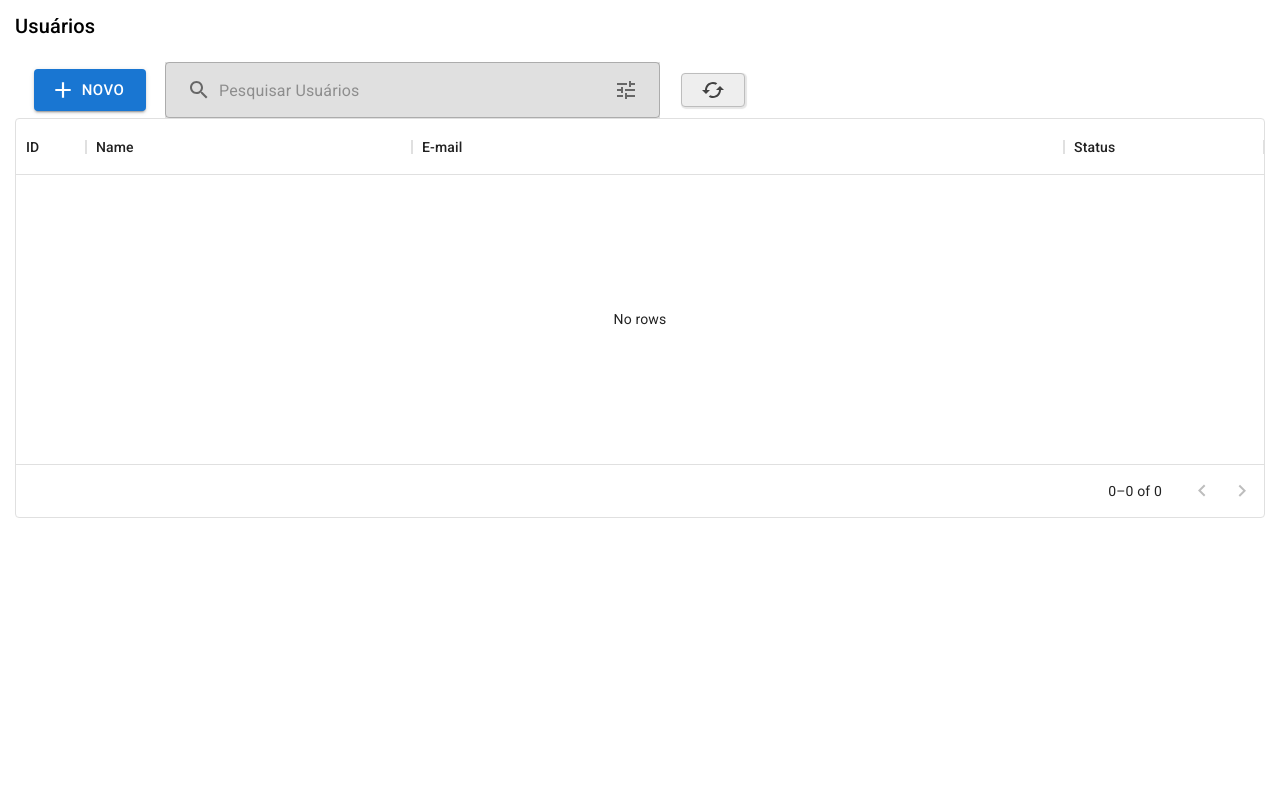
Test: user table header › create button should only be enabled if fields are valid
Click the button with test id "new-user-button" at (90, 90), box top-left (34, 69), bottom-right (146, 111)
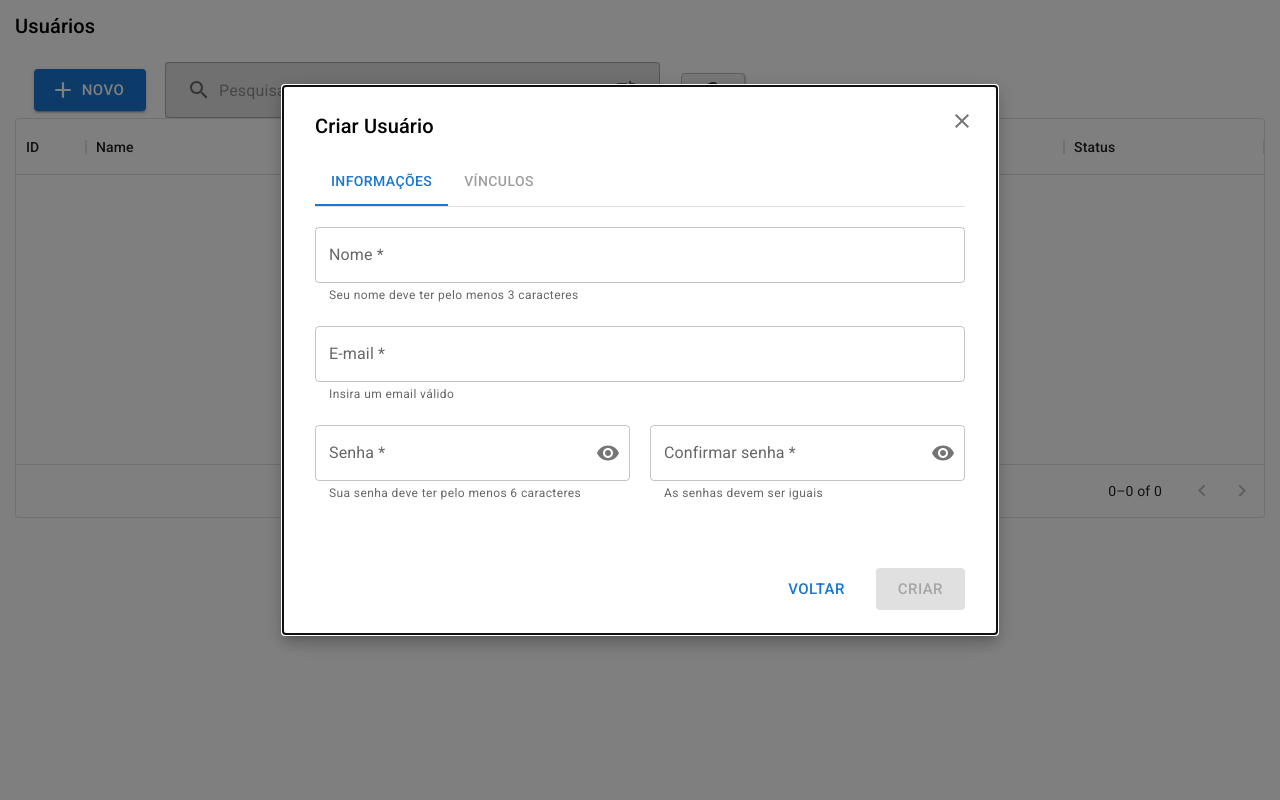
Now the button with test id "button-create" is disabled, box top-left (876, 568), bottom-right (965, 610)
Type "John Doe" into the field labelled "Nome *" at (640, 255), box top-left (315, 227), bottom-right (965, 283)
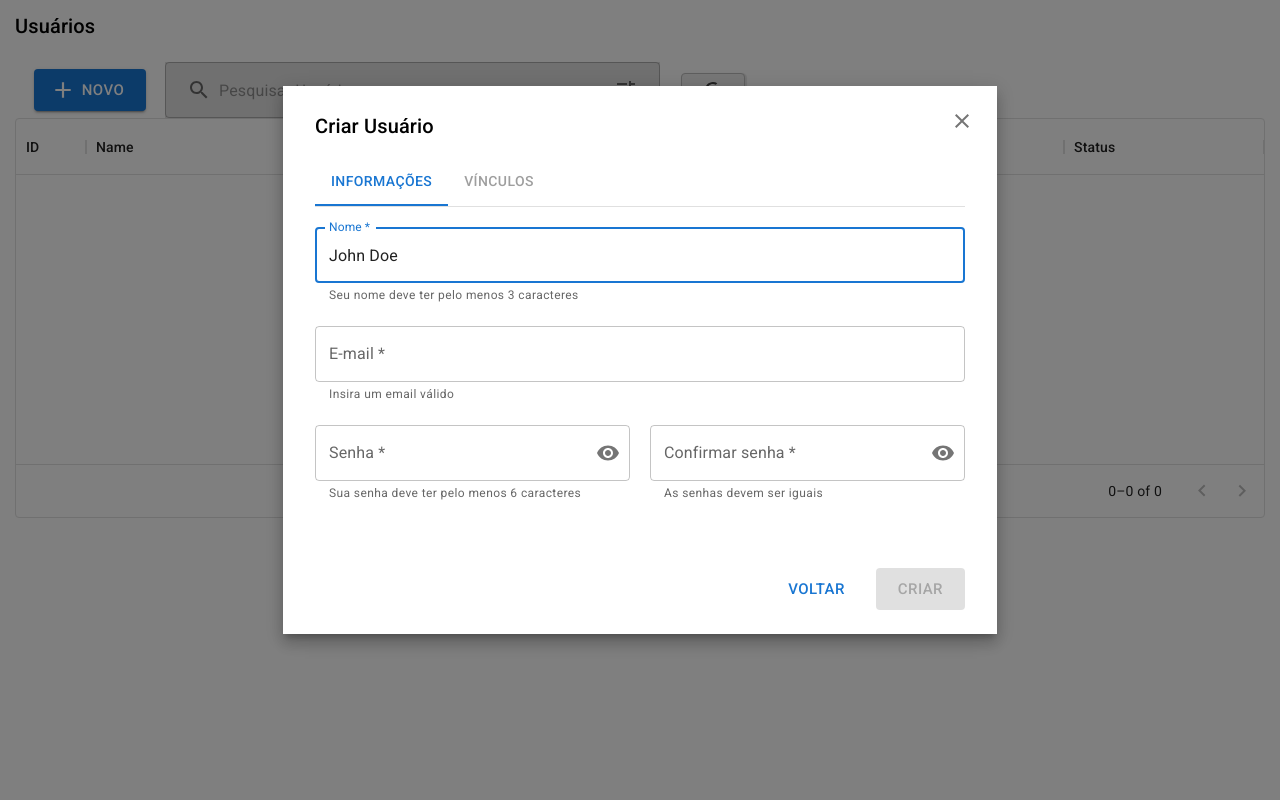
Now the button with test id "button-create" is disabled, box top-left (876, 568), bottom-right (965, 610)
Type "john@doe.com" into the field labelled "E-mail *" at (640, 354), box top-left (315, 326), bottom-right (965, 382)
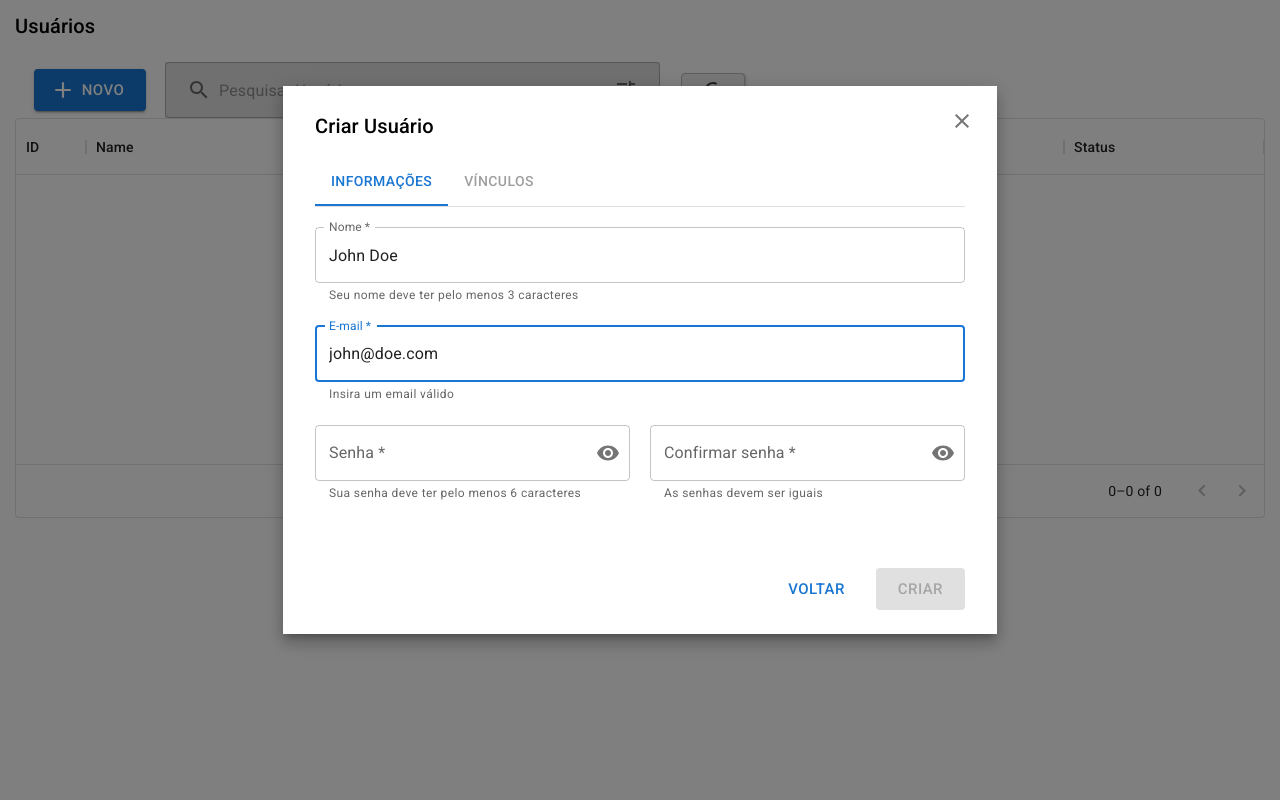
Now the button with test id "button-create" is disabled, box top-left (876, 568), bottom-right (965, 610)
Type "123456" into the password field labelled "Senha *" at (448, 453), box top-left (315, 425), bottom-right (580, 481)
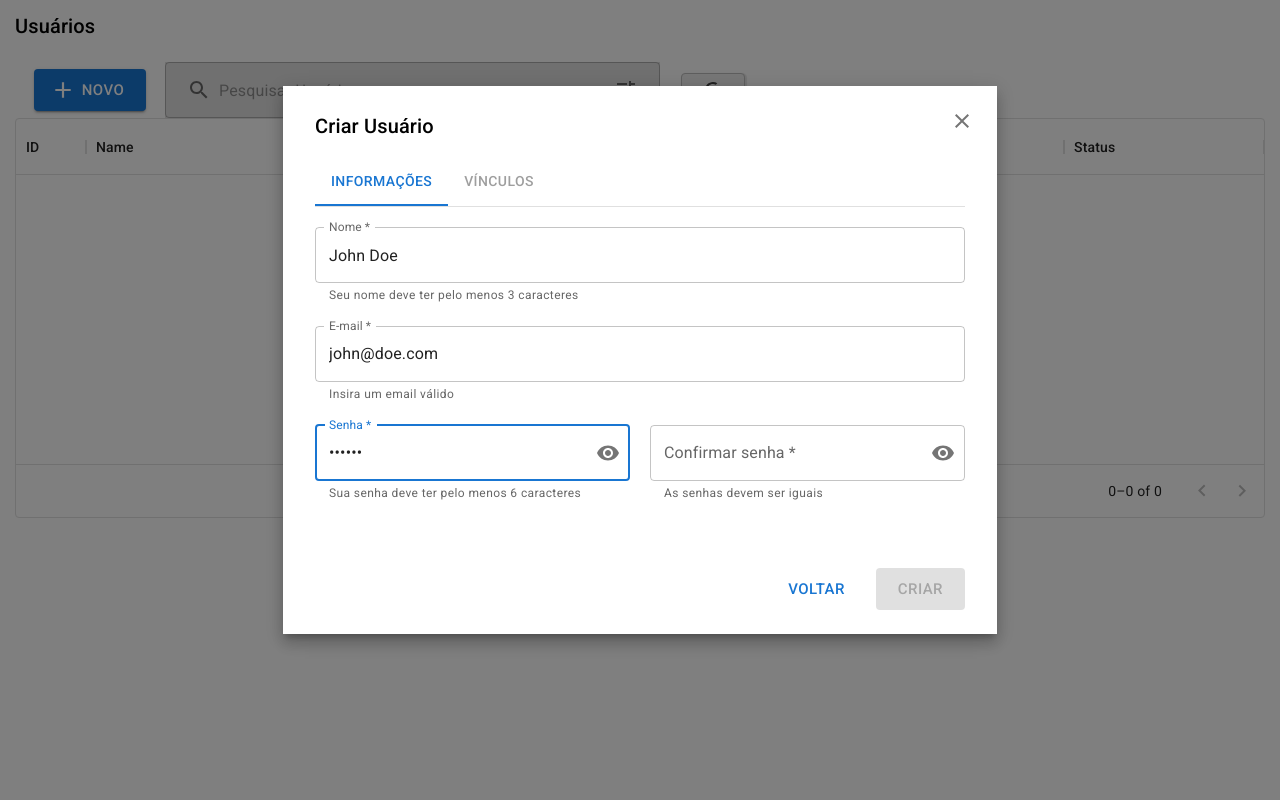
Now the button with test id "button-create" is disabled, box top-left (876, 568), bottom-right (965, 610)
Type "not-the-same-password" into the password field labelled "Confirmar senha *" at (782, 453), box top-left (650, 425), bottom-right (915, 481)
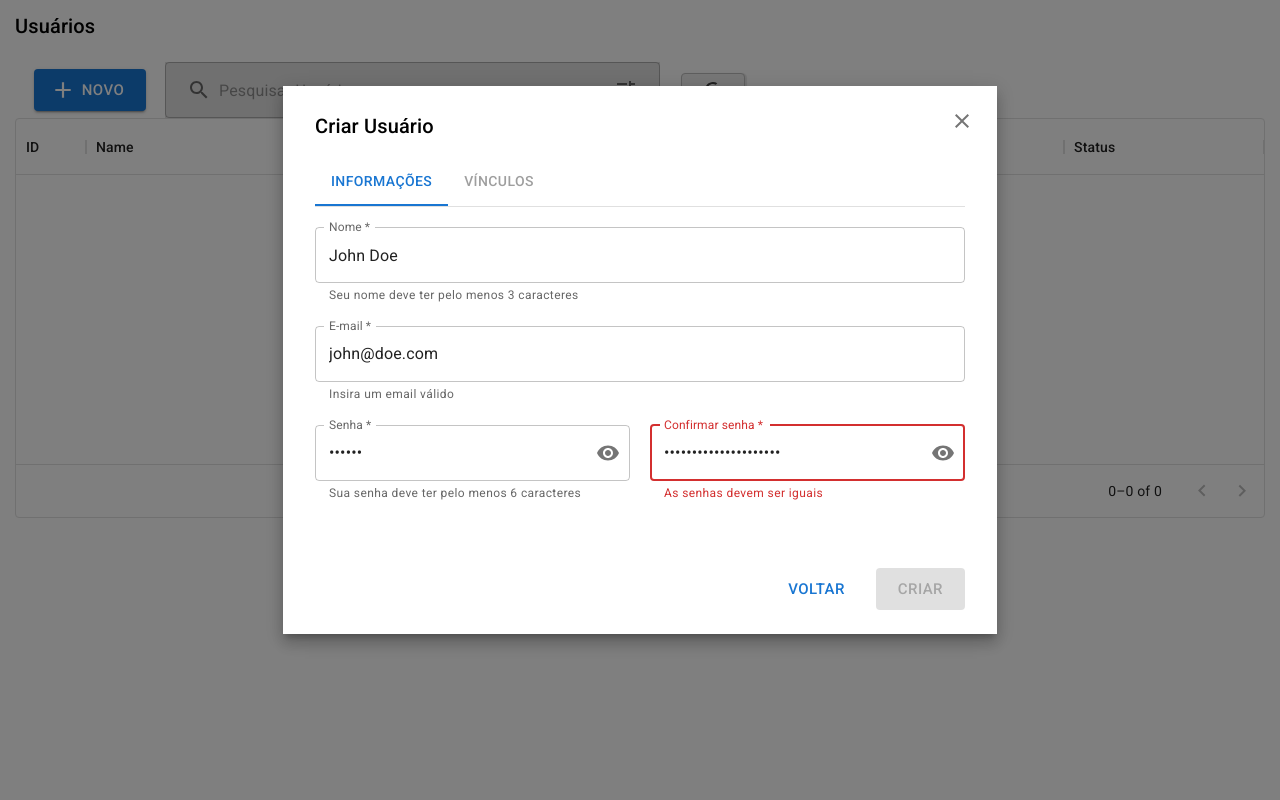
Now the button with test id "button-create" is disabled, box top-left (876, 568), bottom-right (965, 610)
Type "123456" into the password field labelled "Confirmar senha *" at (782, 453), box top-left (650, 425), bottom-right (915, 481)
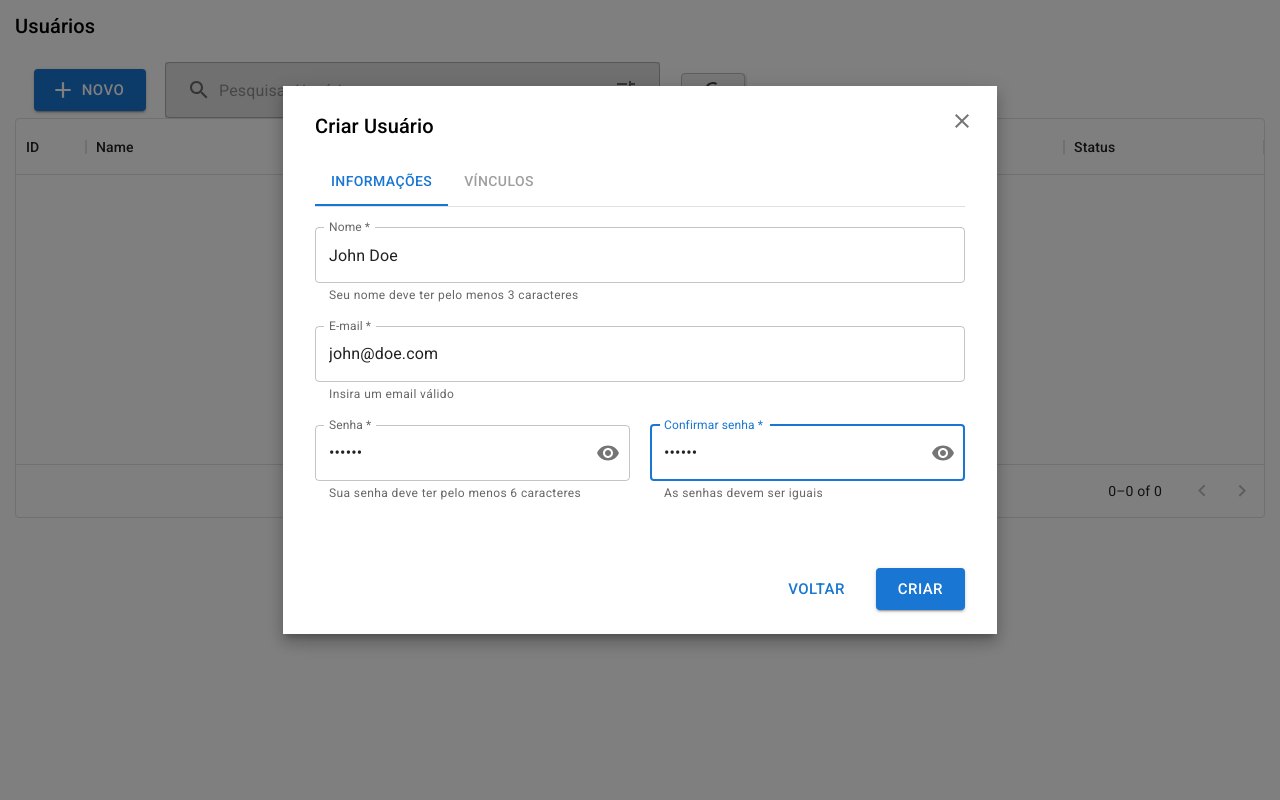
Now the button with test id "button-create" is enabled, box top-left (876, 568), bottom-right (965, 610)
